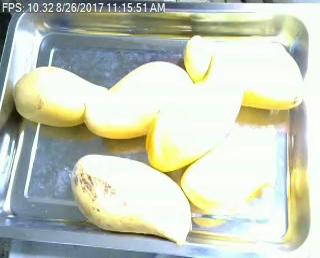Mango: (147, 54, 245, 169), (73, 153, 191, 243), (83, 58, 197, 138), (184, 35, 303, 109), (182, 139, 277, 211), (14, 64, 109, 127)
